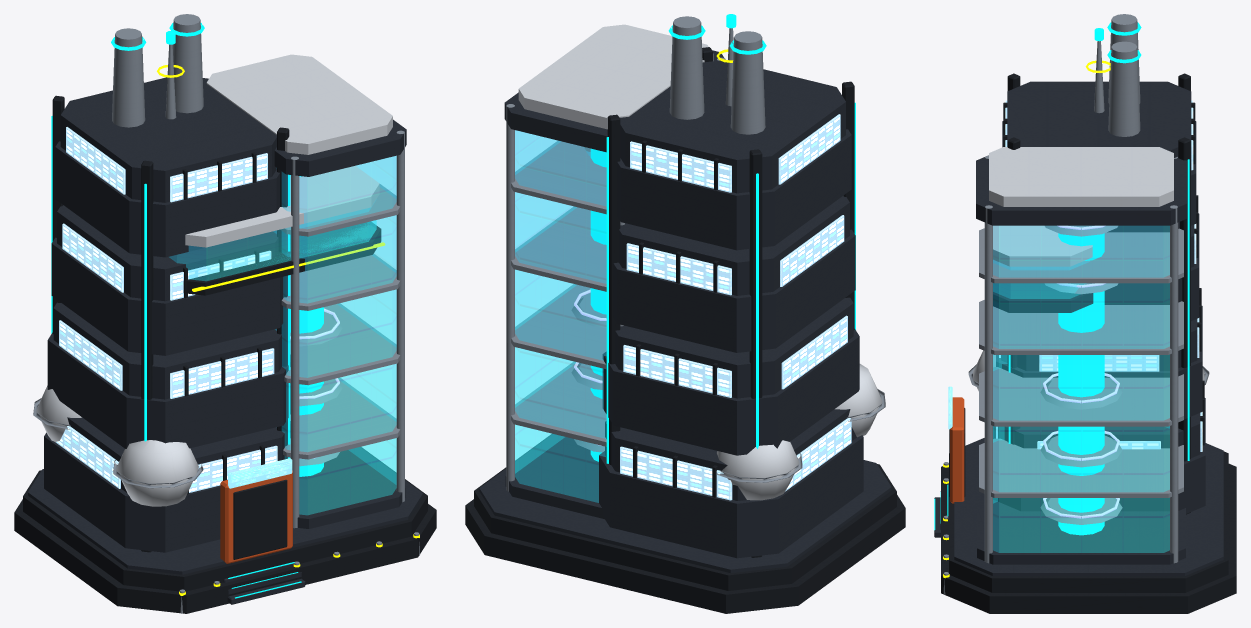
Rendered from bldg_07_r1_05.glb.
3 renders of one model, left to right at view 1: azimuth 30°, elevation 25°; view 2: azimuth 150°, elevation 25°; view 3: azimuth 270°, elevation 25°, orthographic. The views are drawn at different scales.
Visible parts, largest first — view 1: Bldg07_C05_carbon_slate, Bldg07_C05_glass_cyan, Bldg07_C05_gunmetal, Bldg07_C05_steel_machined, Bldg07_C05_aero_white, Bldg07_C05_window_lit, Bldg07_C05_led_cyan, Bldg07_C05_accent_orange, Bldg07_C05_marquee, Bldg07_C05_led_amber; view 2: Bldg07_C05_carbon_slate, Bldg07_C05_steel_machined, Bldg07_C05_glass_cyan, Bldg07_C05_gunmetal, Bldg07_C05_window_lit, Bldg07_C05_aero_white, Bldg07_C05_led_cyan; view 3: Bldg07_C05_glass_cyan, Bldg07_C05_carbon_slate, Bldg07_C05_steel_machined, Bldg07_C05_gunmetal, Bldg07_C05_aero_white, Bldg07_C05_led_cyan, Bldg07_C05_window_lit, Bldg07_C05_accent_orange, Bldg07_C05_led_uv.
Boxes of the visible parts, x1,y1,x2,y2 form: Bldg07_C05_carbon_slate: [28, 77, 422, 604]; Bldg07_C05_glass_cyan: [169, 156, 396, 514]; Bldg07_C05_gunmetal: [14, 95, 436, 613]; Bldg07_C05_steel_machined: [33, 14, 419, 613]; Bldg07_C05_aero_white: [36, 54, 392, 506]; Bldg07_C05_window_lit: [55, 127, 277, 492]; Bldg07_C05_led_cyan: [51, 23, 323, 598]; Bldg07_C05_accent_orange: [220, 470, 292, 563]; Bldg07_C05_marquee: [228, 458, 292, 488]; Bldg07_C05_led_amber: [157, 65, 419, 595]; Bldg07_C05_carbon_slate: [479, 50, 891, 572]; Bldg07_C05_steel_machined: [506, 16, 887, 491]; Bldg07_C05_glass_cyan: [515, 130, 606, 502]; Bldg07_C05_gunmetal: [465, 47, 905, 613]; Bldg07_C05_window_lit: [620, 114, 851, 500]; Bldg07_C05_aero_white: [518, 24, 882, 500]; Bldg07_C05_led_cyan: [590, 14, 855, 463]; Bldg07_C05_glass_cyan: [993, 226, 1169, 552]; Bldg07_C05_carbon_slate: [934, 81, 1223, 576]; Bldg07_C05_steel_machined: [943, 14, 1209, 594]; Bldg07_C05_gunmetal: [941, 73, 1236, 613]; Bldg07_C05_aero_white: [973, 147, 1204, 391]; Bldg07_C05_led_cyan: [934, 22, 1189, 535]; Bldg07_C05_window_lit: [996, 100, 1202, 451]; Bldg07_C05_accent_orange: [950, 397, 964, 503]; Bldg07_C05_led_uv: [1043, 225, 1119, 518].
Bounding box in the file's own units: 12 × 18.12 × 10.23.
Materials: 11 (11 with a texture image).
